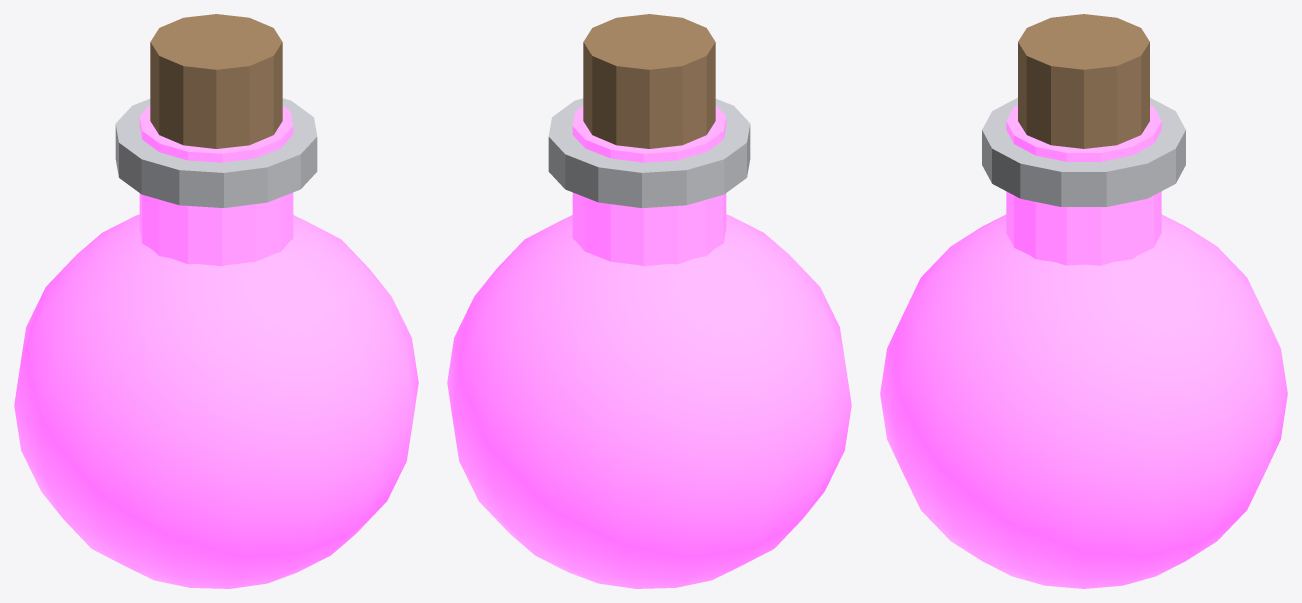
File: item_poison.glb
3 renders of one model, left to right at view 1: azimuth 30°, elevation 25°; view 2: azimuth 150°, elevation 25°; view 3: azimuth 270°, elevation 25°, orthographic.
Visible parts, largest first — view 1: PoisonFlaskBody, PoisonCork, PoisonNeck, PoisonCollar; view 2: PoisonFlaskBody, PoisonCork, PoisonNeck, PoisonCollar; view 3: PoisonFlaskBody, PoisonCork, PoisonNeck, PoisonCollar.
Boxes of the visible parts, box(x1,y1,x2,y2) form: PoisonFlaskBody: box(14, 214, 418, 588); PoisonCork: box(150, 14, 282, 148); PoisonNeck: box(139, 105, 293, 266); PoisonCollar: box(115, 98, 317, 207); PoisonFlaskBody: box(447, 214, 851, 588); PoisonCork: box(583, 14, 715, 148); PoisonNeck: box(572, 105, 726, 266); PoisonCollar: box(548, 98, 750, 207); PoisonFlaskBody: box(880, 214, 1287, 588); PoisonCork: box(1018, 14, 1149, 148); PoisonNeck: box(1006, 105, 1161, 265); PoisonCollar: box(982, 97, 1185, 206).
Size of the model in its own units: 0.4204 by 0.6 by 0.4204.
